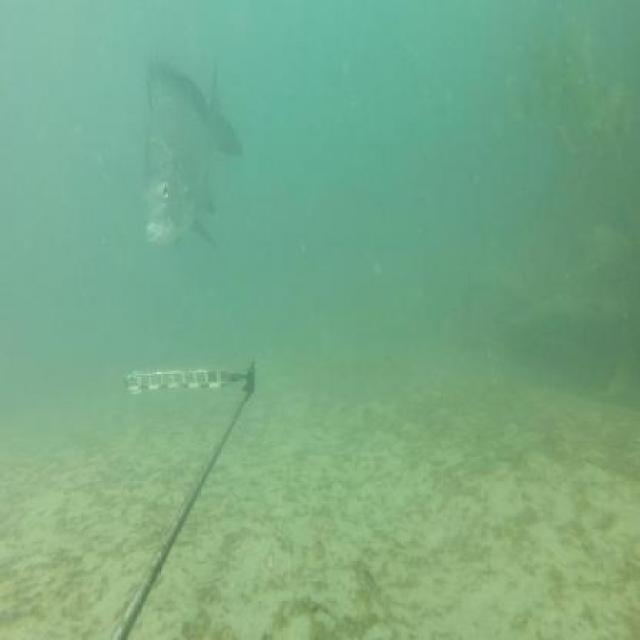acanthopagrus_palmaris: (139, 46, 247, 255)
